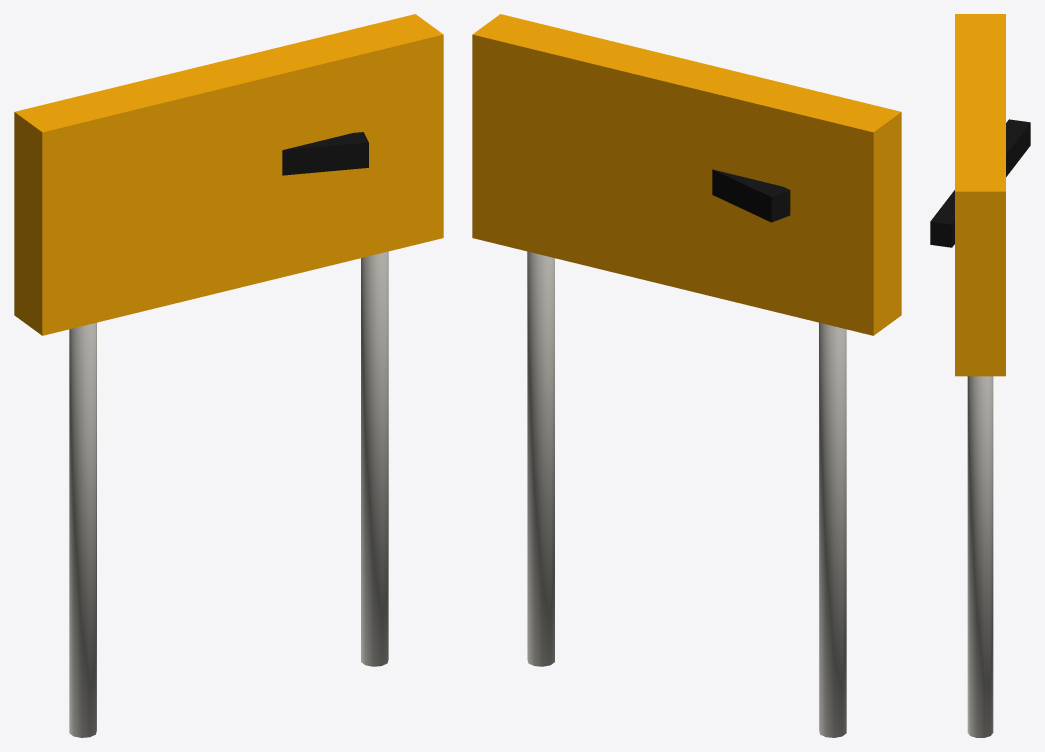
The model's file is prop_nike_sign.glb.
3 views of the same model, side by side, from view 1: azimuth 30°, elevation 25°; view 2: azimuth 150°, elevation 25°; view 3: azimuth 270°, elevation 25° (orthographic). The views are drawn at different scales.
Parts seen in each view (by area): view 1: yellow nike sign board, nike sign pole right, nike sign pole left, black nike sign slash; view 2: yellow nike sign board, nike sign pole right, nike sign pole left, black nike sign slash; view 3: yellow nike sign board, nike sign pole right, black nike sign slash.
Boxes of the visible parts, left/top/right/bottom form: yellow nike sign board: left=14, top=14, right=443, bottom=335; nike sign pole right: left=361, top=251, right=388, bottom=666; nike sign pole left: left=69, top=322, right=96, bottom=737; black nike sign slash: left=282, top=132, right=368, bottom=175; yellow nike sign board: left=472, top=14, right=901, bottom=335; nike sign pole right: left=527, top=251, right=554, bottom=666; nike sign pole left: left=819, top=322, right=846, bottom=737; black nike sign slash: left=712, top=169, right=790, bottom=222; yellow nike sign board: left=955, top=14, right=1005, bottom=376; nike sign pole right: left=967, top=376, right=993, bottom=737; black nike sign slash: left=930, top=119, right=1030, bottom=247.
Size of the model in its own units: 0.33 by 0.49 by 0.0789.
